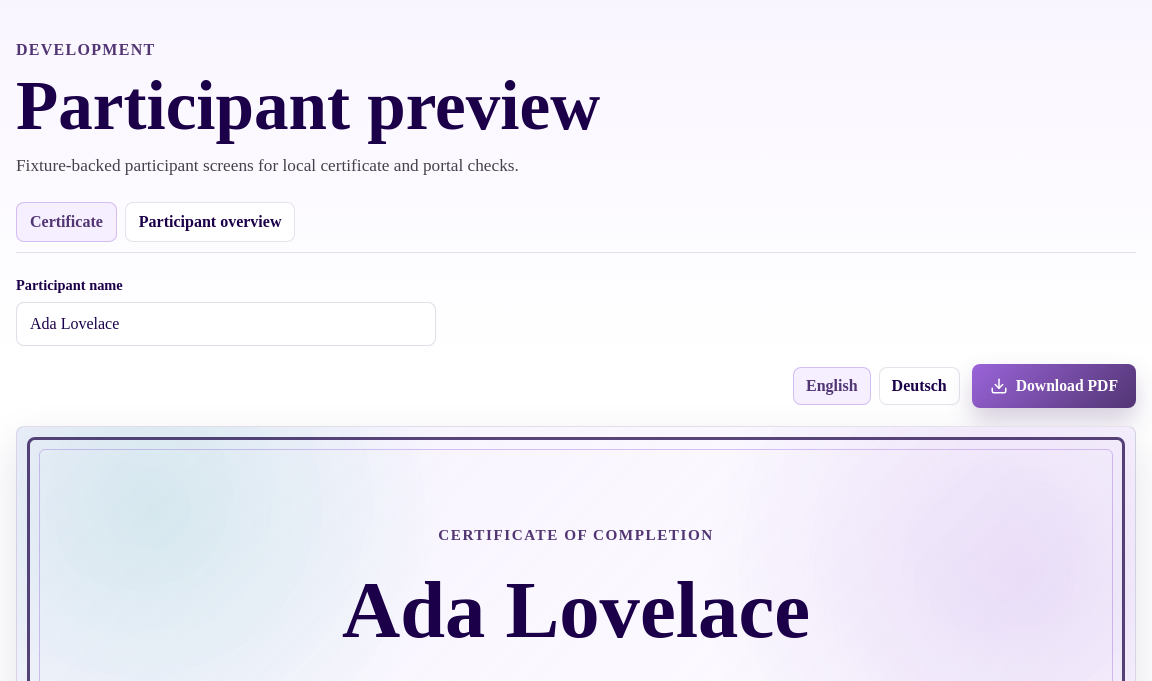
Test: ParticipantPreview › renders the certificate generator with editable fixture participant data
Check: the heading "Participant preview" is shown, box top-left (16, 67), bottom-right (600, 144)
Check: the button "Download PDF" is shown, box top-left (972, 364), bottom-right (1136, 408)
Step 1. Replace the text in the field labelled "Participant name" with "Grace Hopper" → [226, 324], box top-left (16, 302), bottom-right (436, 346)
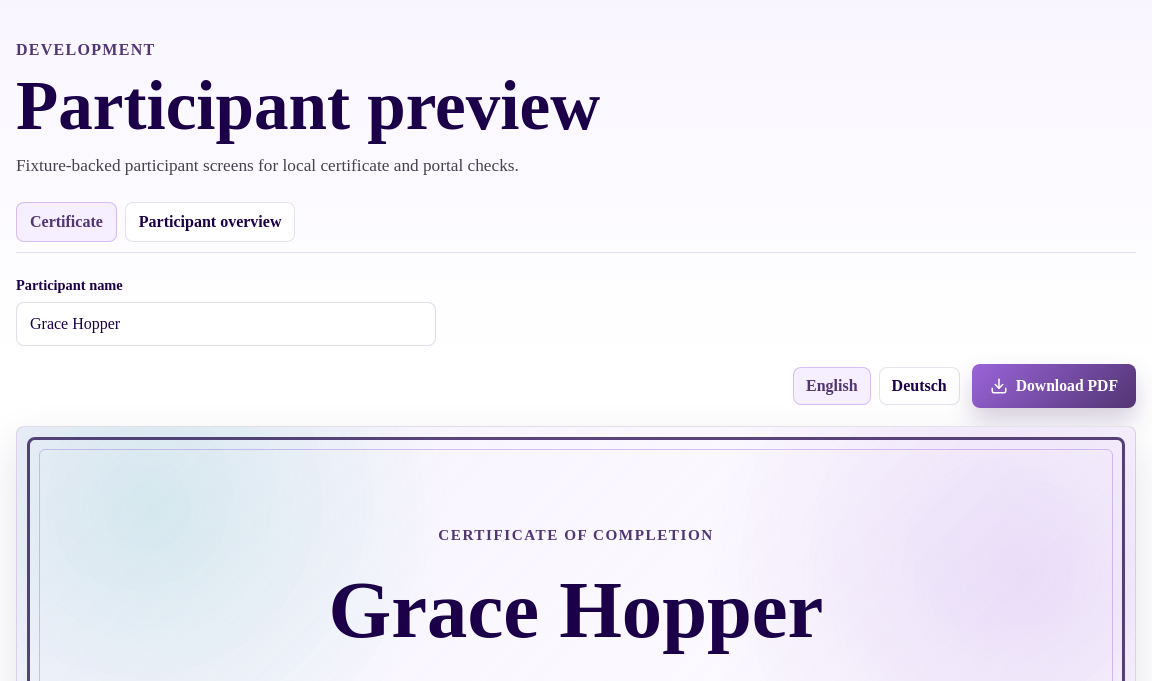
Check: the heading "Grace Hopper" is shown, box top-left (329, 564), bottom-right (823, 654)
Step 2. Click the button "Participant overview" → [210, 222], box top-left (125, 202), bottom-right (295, 242)
(page scrolled)
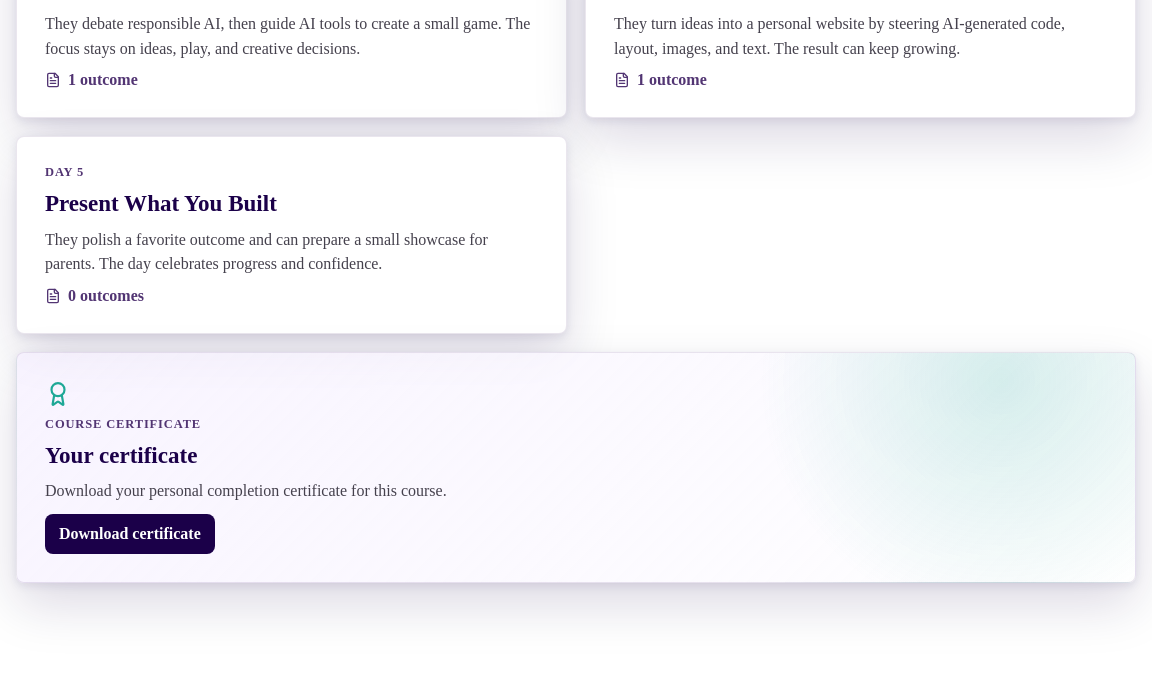
Check: the button "Download certificate" is shown, box top-left (45, 514), bottom-right (215, 554)
